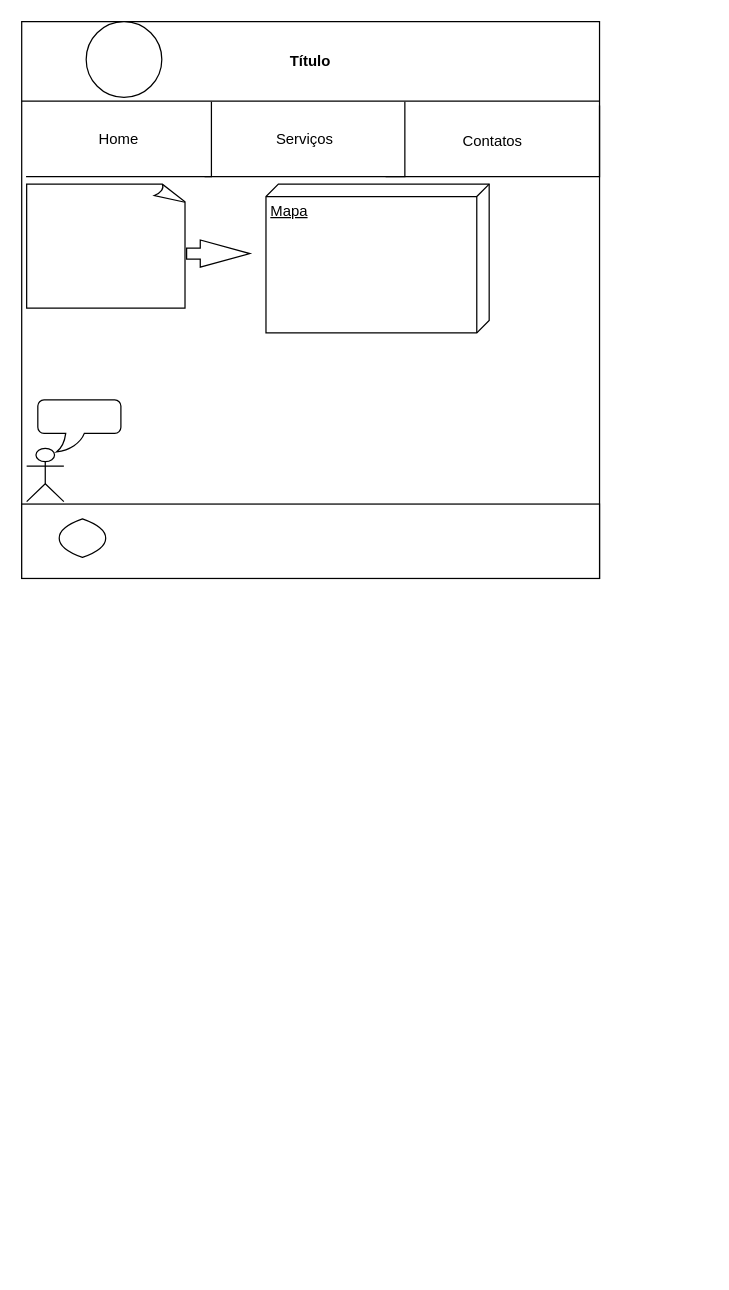
Some shapes in this 729 by 1290 pixel diagram are drawn without their labels. The shapes that lost their labels are listed below. From the top down, each one's centre as x and y in pixels, then its label:
pixel 106 245: Info
pixel 79 425: Fale cmg
